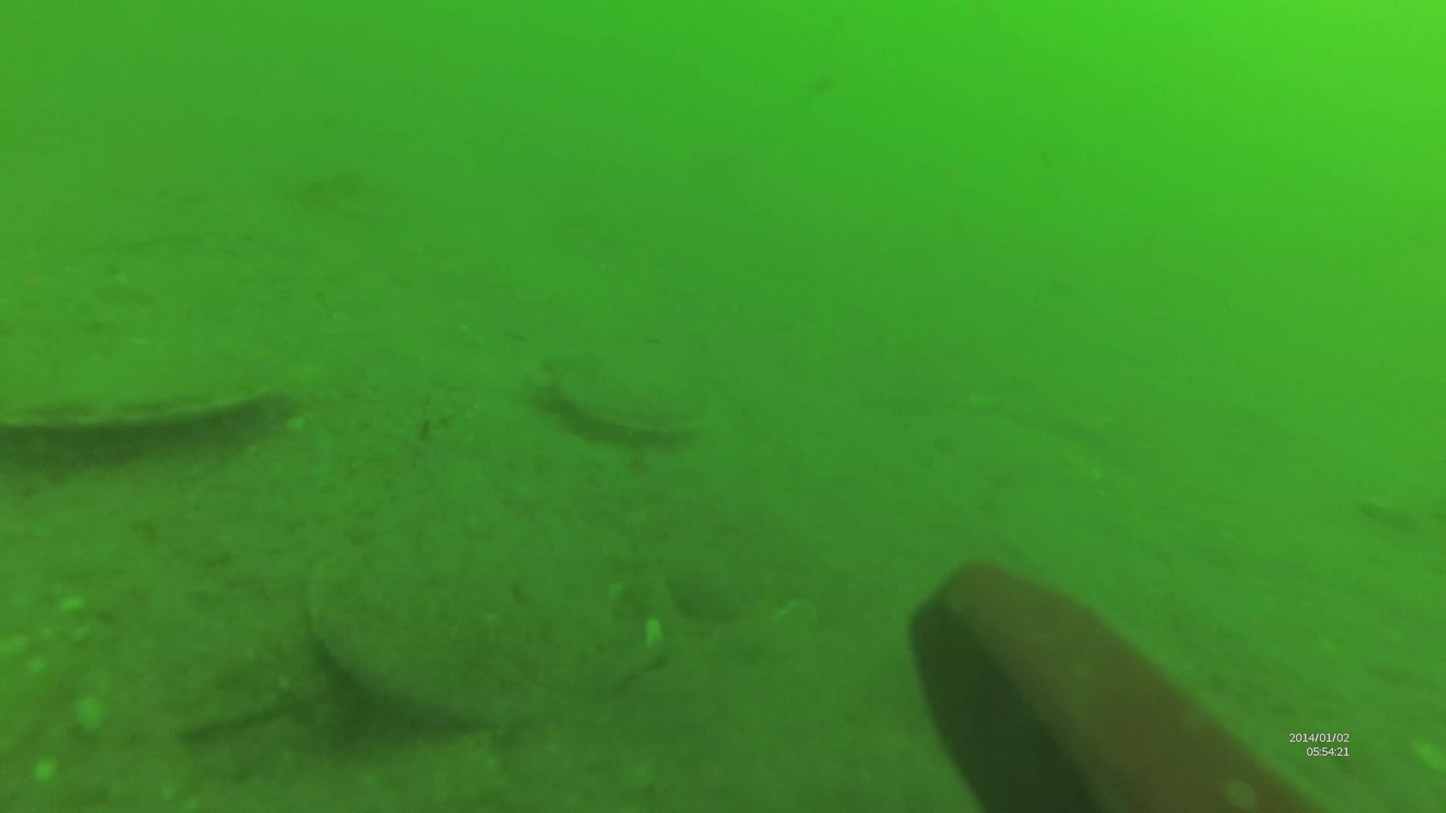scallop: (305, 511, 664, 743), (3, 291, 297, 444), (540, 345, 706, 443)
